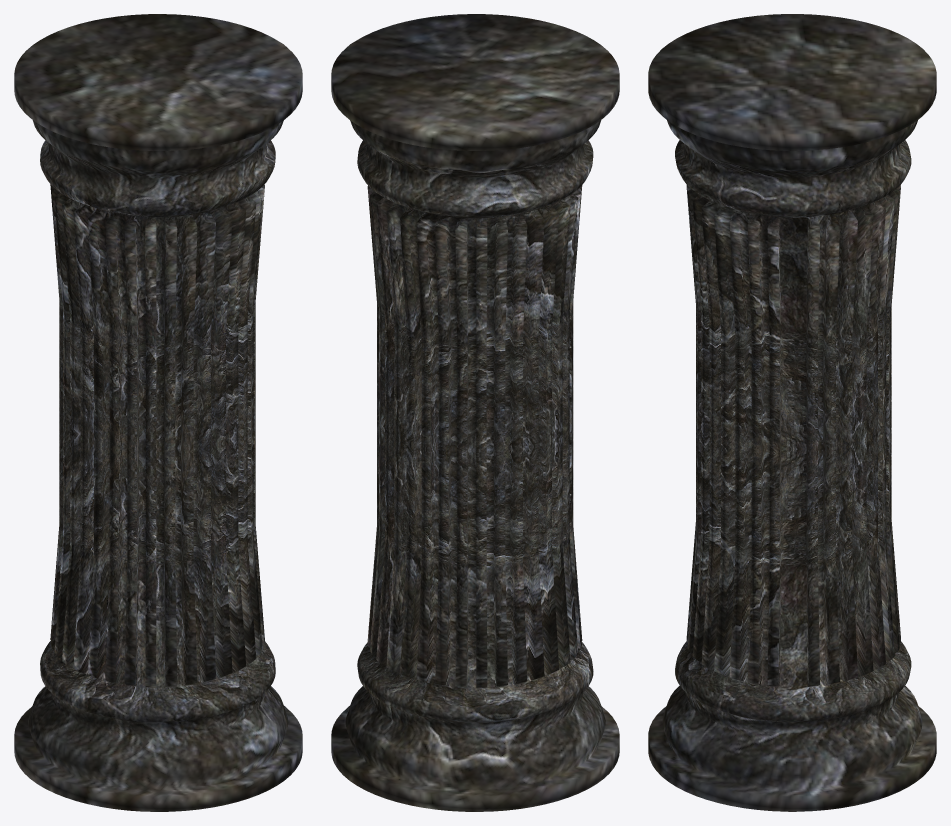
The model's file is column_from_a_simpler_time.fbx.
3 views of the same model, side by side, from view 1: azimuth 30°, elevation 25°; view 2: azimuth 150°, elevation 25°; view 3: azimuth 270°, elevation 25° (orthographic).
Visible parts, largest first — view 1: Cylinder; view 2: Cylinder; view 3: Cylinder.
Boxes of the visible parts, x1,y1,x2,y2 form: Cylinder: [14, 14, 302, 811]; Cylinder: [331, 14, 619, 811]; Cylinder: [648, 14, 936, 811].
Bounding box in the file's own units: 303 × 783 × 302.
1 material, 1 textured.
